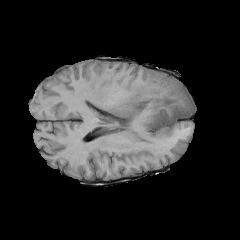glioma: (72, 75, 193, 135)
